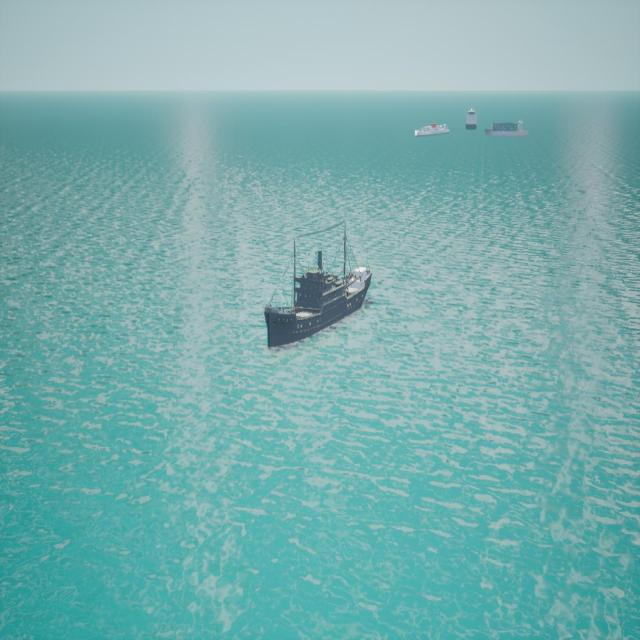fishing ship: (264, 250, 372, 351), (486, 123, 530, 142), (415, 125, 452, 139), (466, 110, 478, 132)
